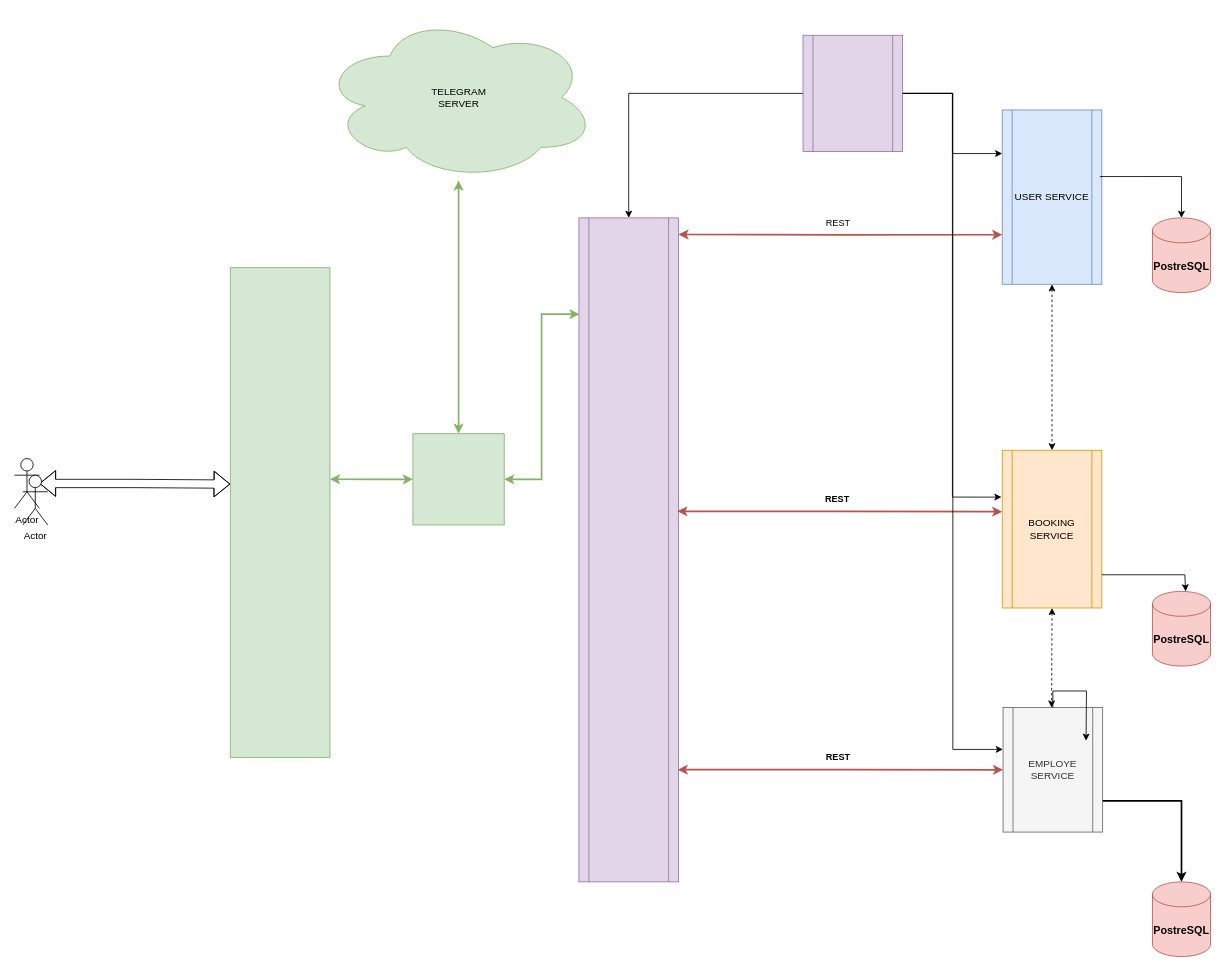
Image size: 1225x971. Some labels were removed from this diagram. Here are the shapes that lost their labels. From the top down, the centre of each, then its label:
the point at 852,92: DISCOVERY SERVICE
the point at 458,479: TELEGRAM API
the point at 279,512: TELEGRAM BOT
the point at 628,549: API GATEWAY proxy
